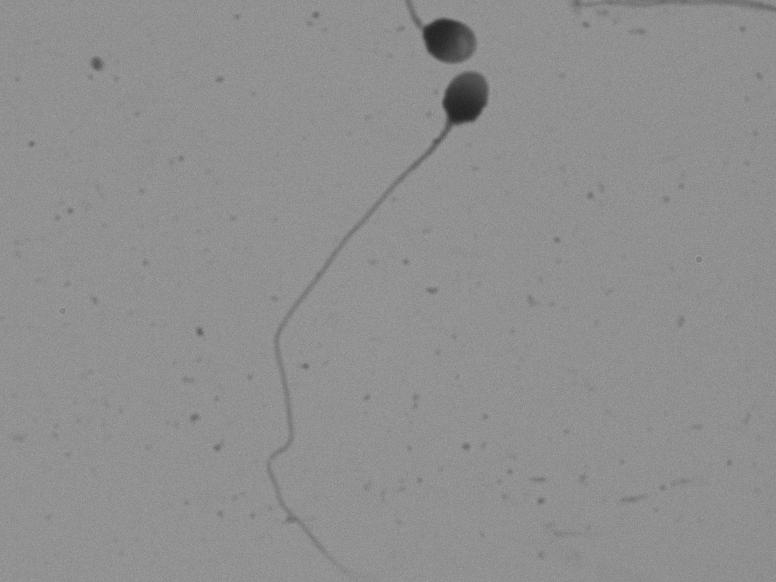Normal: (216, 64, 564, 566)
